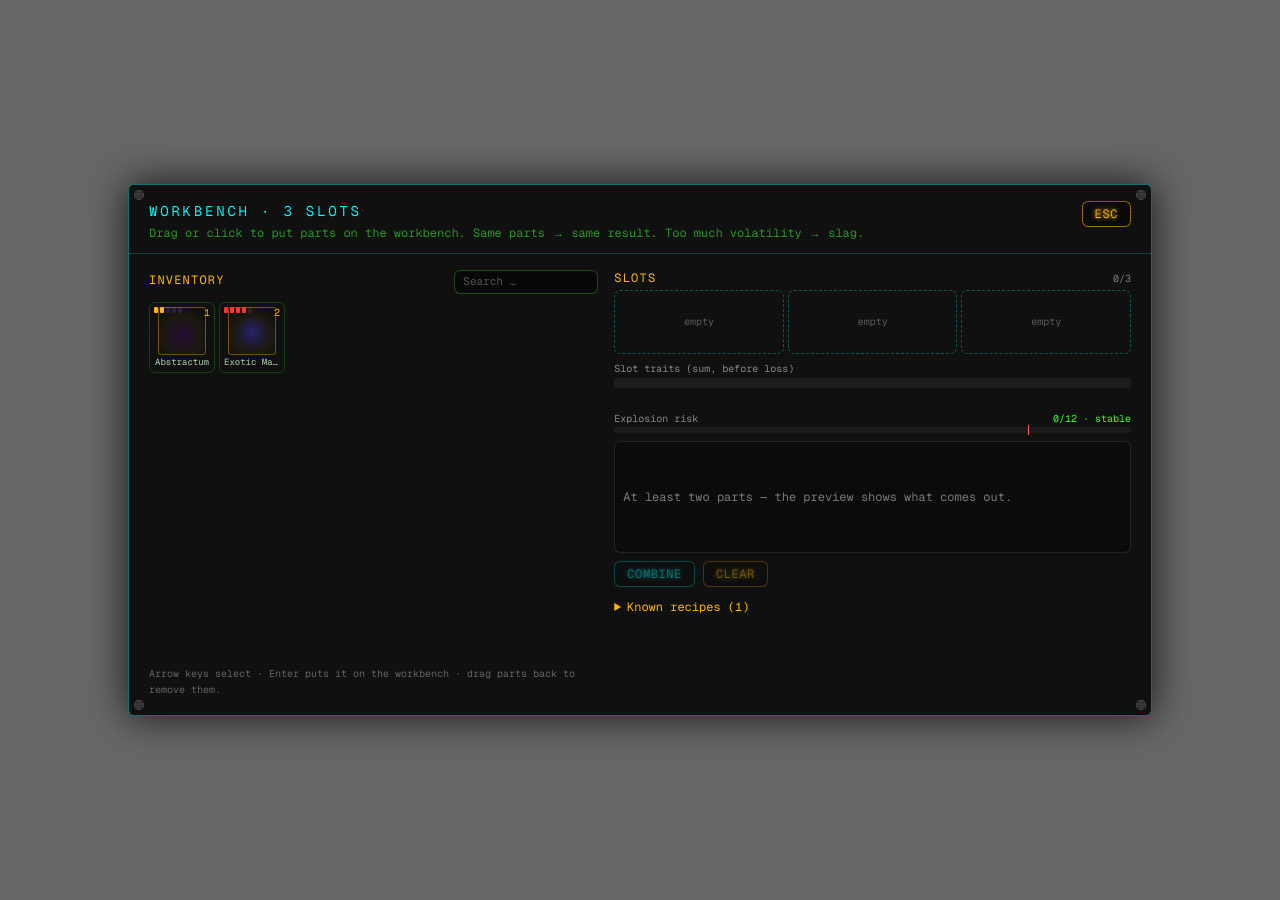
Scenario: Workbench: archetypes › announces a new archetype and what it is good for
Click the button "Abstractum 1" at [182, 338], box [149,302,215,374]
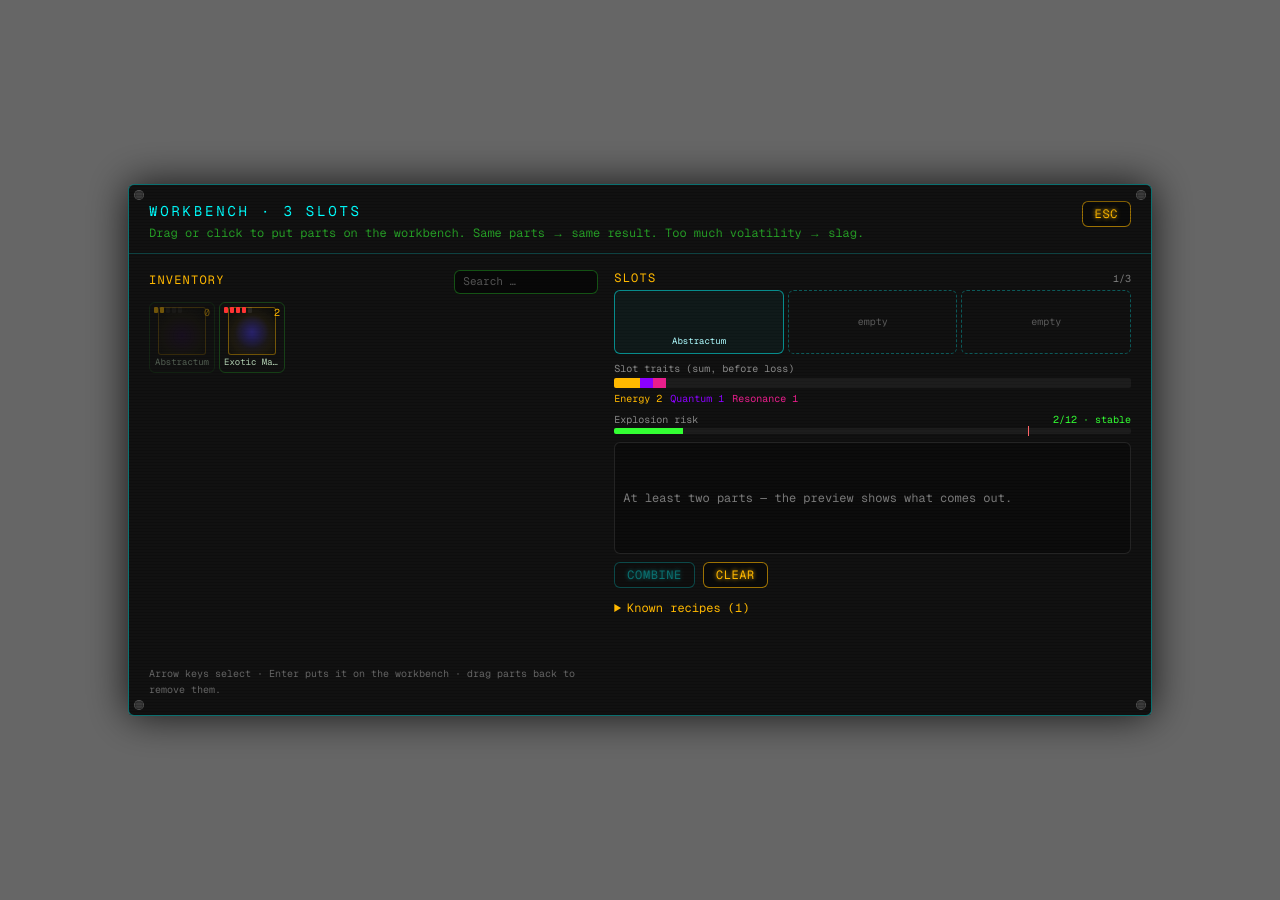
Click the button "Exotic Matter 2" at [252, 338], box [219,302,285,374]
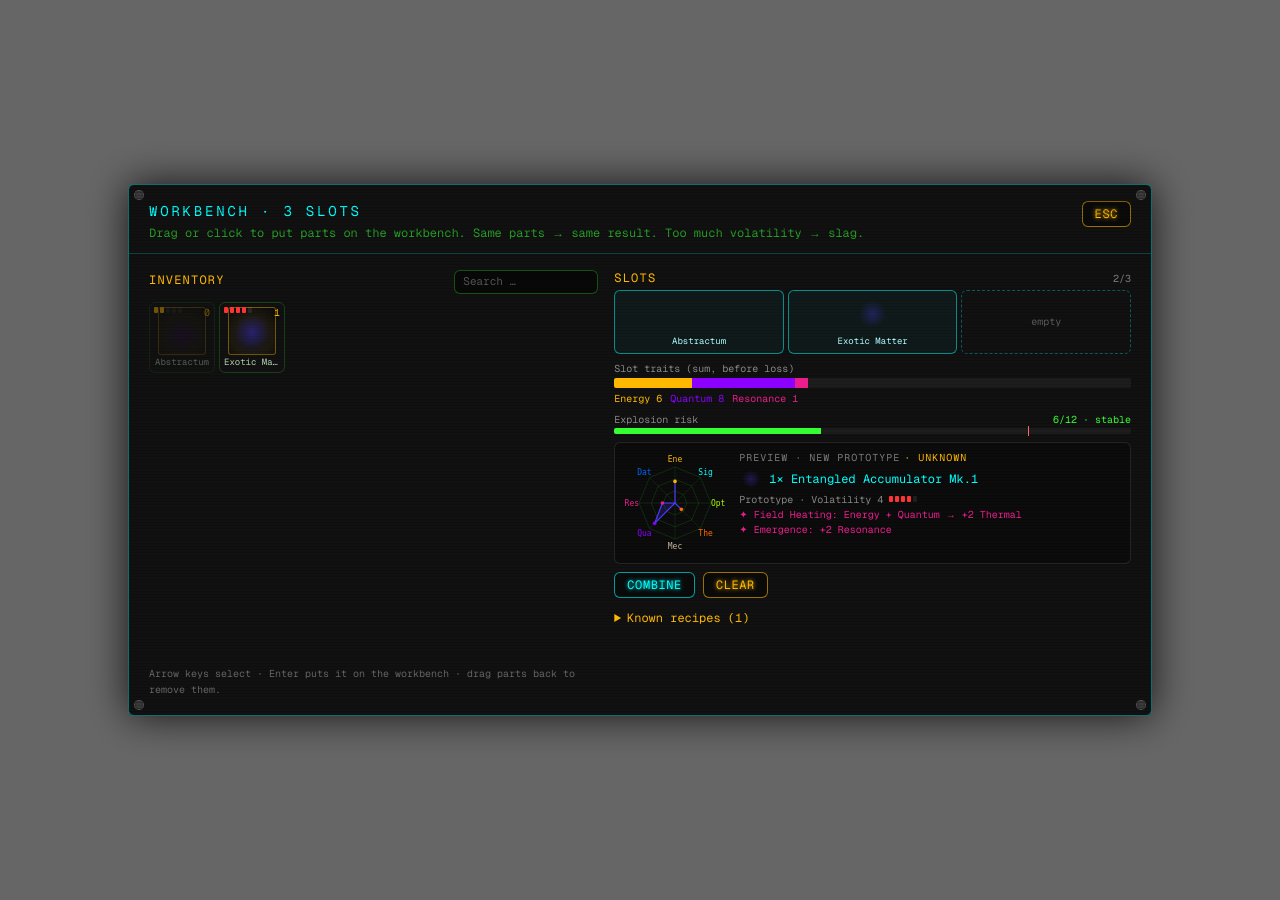
Click the button "Exotic Matter 1" at [252, 338], box [219,302,285,374]
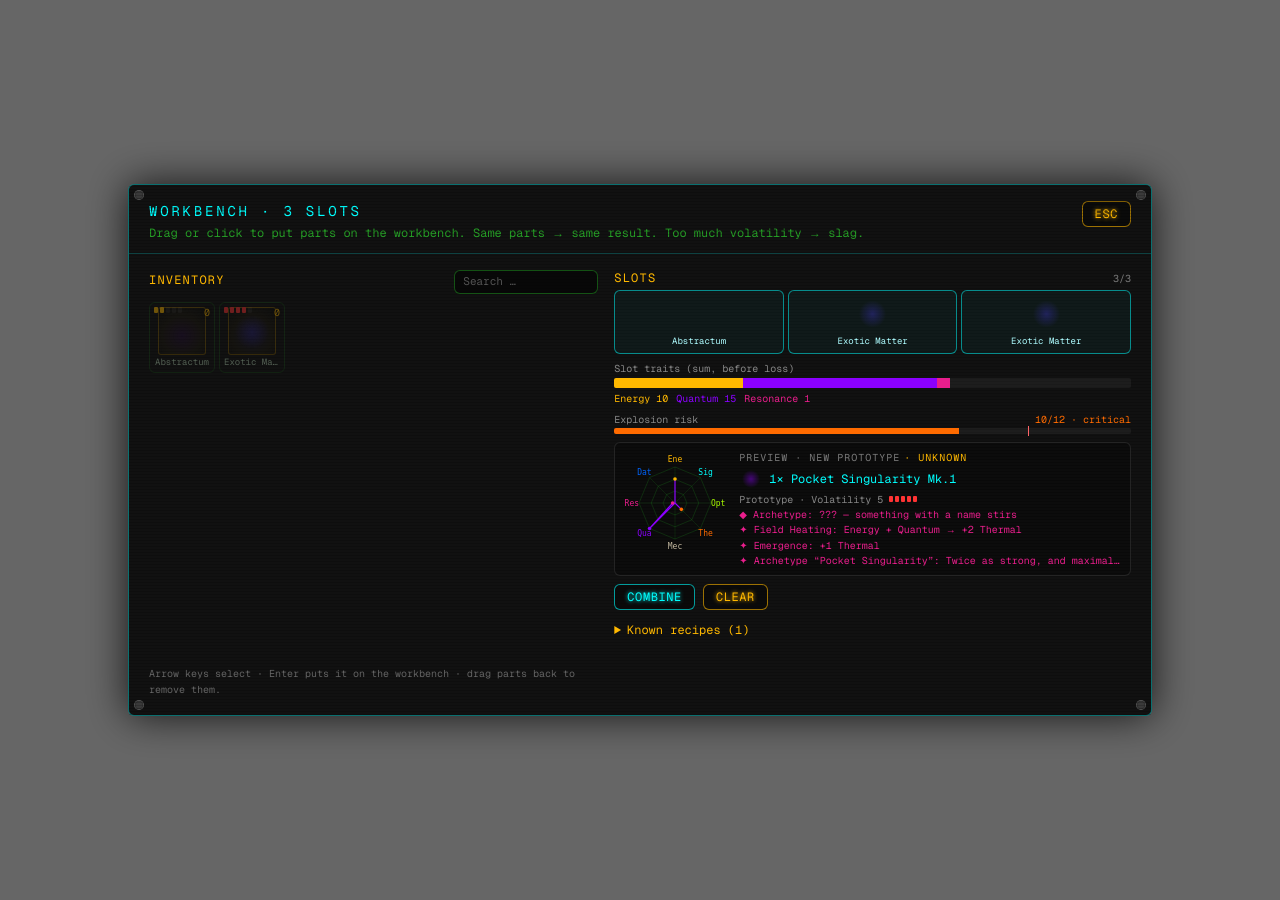
Expected: the text "◆ Archetype: ??? — something with a name stirs" is shown, [739,508,1017,521]
Click the button "Combine" at [655, 597], box [614,584,695,610]
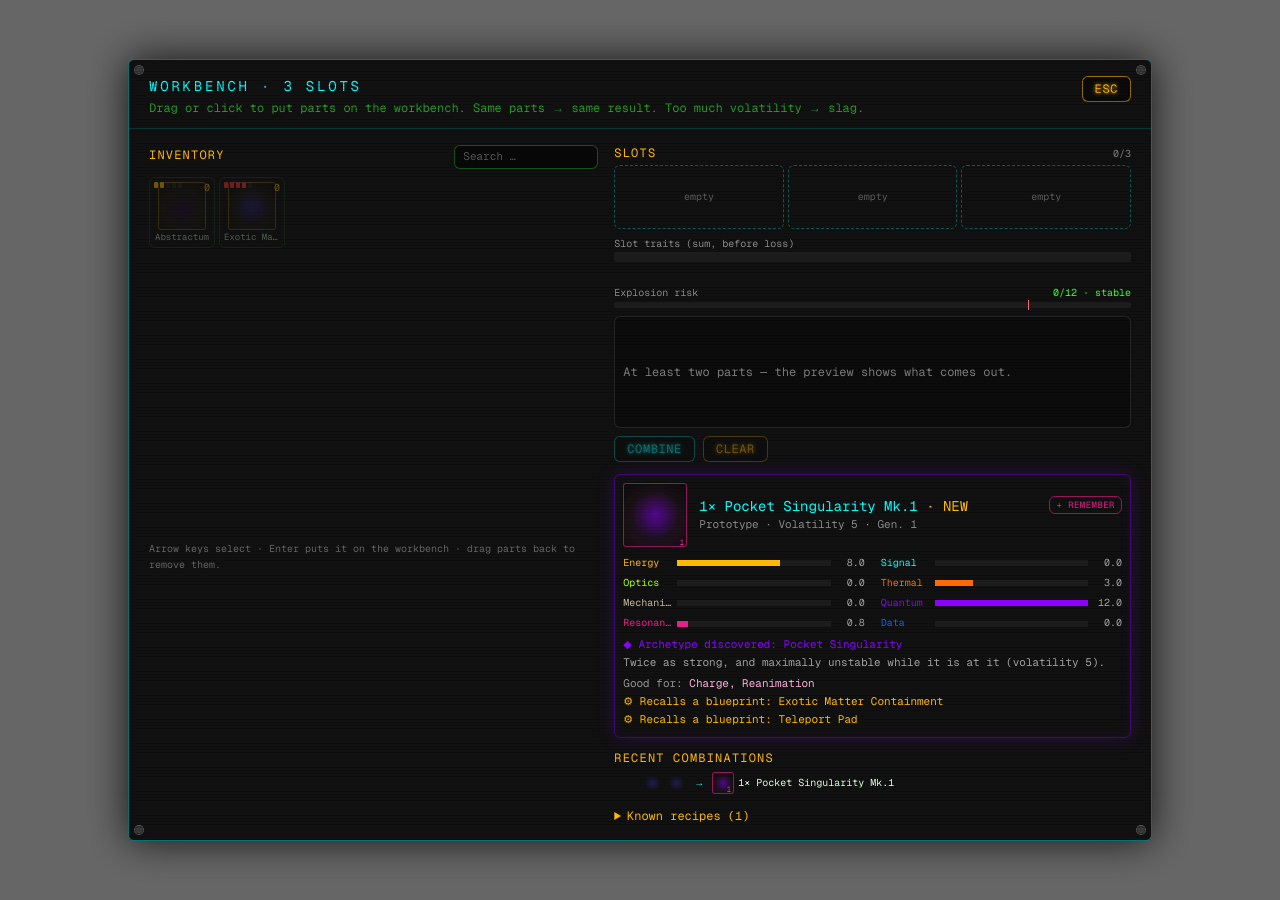
Expected: the text "1× Pocket Singularity Mk.1 · NEW" is shown, [699,497,968,515]
